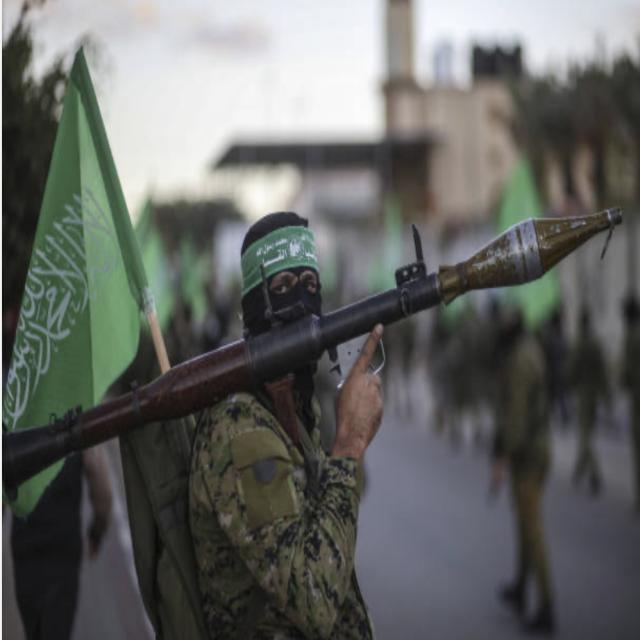bazooka: (3, 207, 639, 498)
